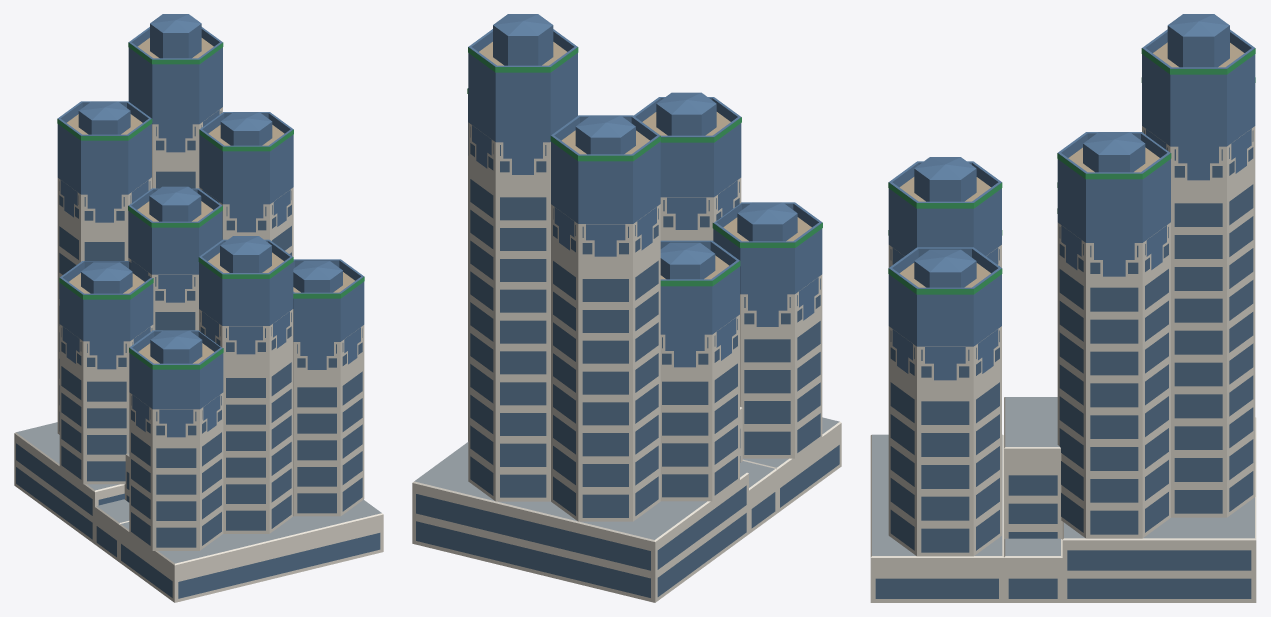
Rendered from sd-emerald-plaza.glb.
3 views of the same model, side by side, from view 1: azimuth 30°, elevation 25°; view 2: azimuth 150°, elevation 25°; view 3: azimuth 270°, elevation 25° (orthographic). The views are drawn at different scales.
Visible parts, largest first — view 1: Emerald Plaza; view 2: Emerald Plaza; view 3: Emerald Plaza.
Part boxes in pixels (x1=…): Emerald Plaza: x1=14, y1=14, x2=383, y2=602; Emerald Plaza: x1=412, y1=14, x2=841, y2=602; Emerald Plaza: x1=870, y1=14, x2=1256, y2=602.
Bounding box in the file's own units: 60.28 × 122 × 79.1.
